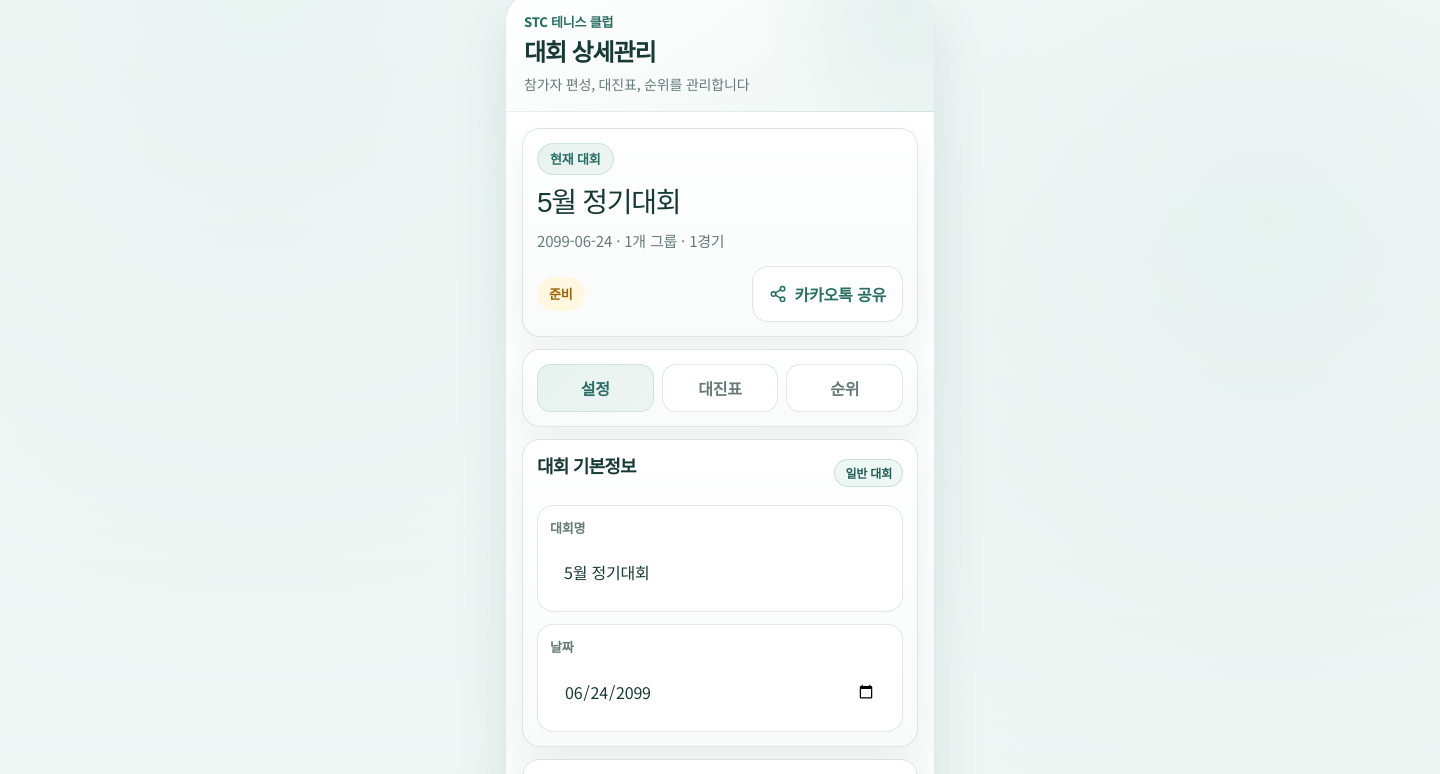
Test: TournamentManageClient save timing › resets only the selected completed match in a regular tournament
Click the button "대진표" at (720, 388), box [662,364,778,412]
(page scrolled)
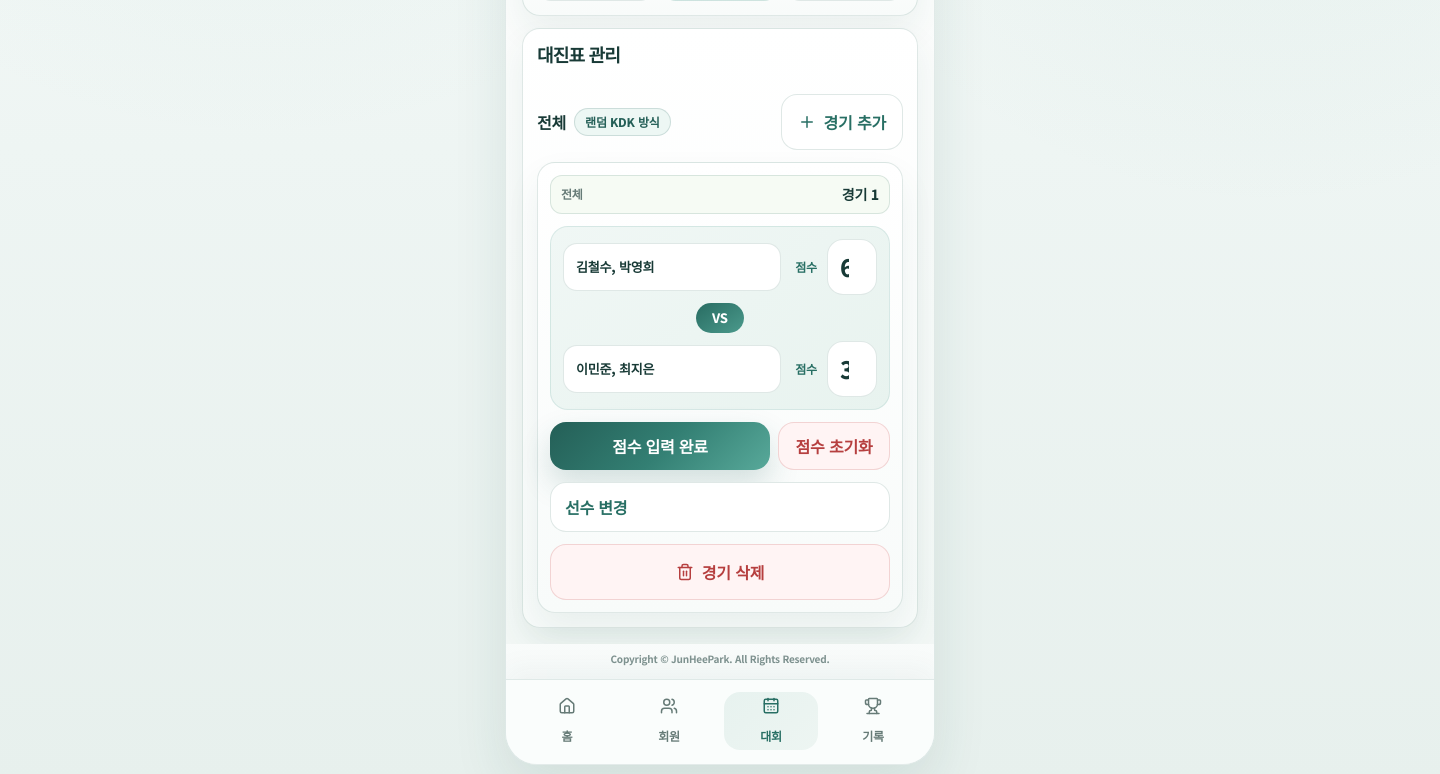
Click the button "점수 초기화" at (834, 446), box [778,422,890,470]
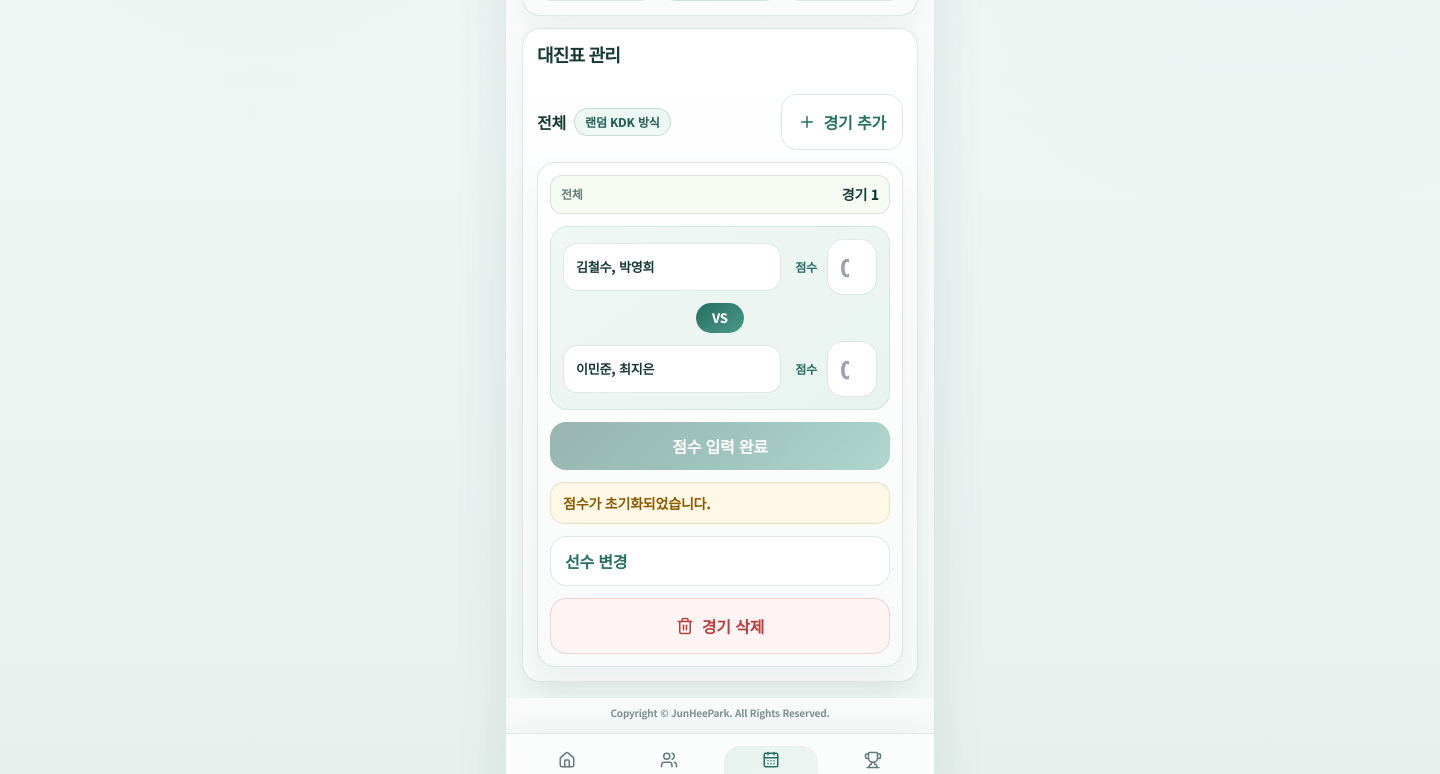
expect the text "점수가 초기화되었습니다." is shown: met, box [550,482,890,524]
expect the number field named "위쪽 팀 점수" is empty: met, box [827,239,877,295]
expect the number field named "아래쪽 팀 점수" is empty: met, box [827,341,877,397]
